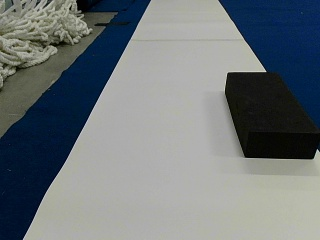block: (224, 71, 319, 158)
